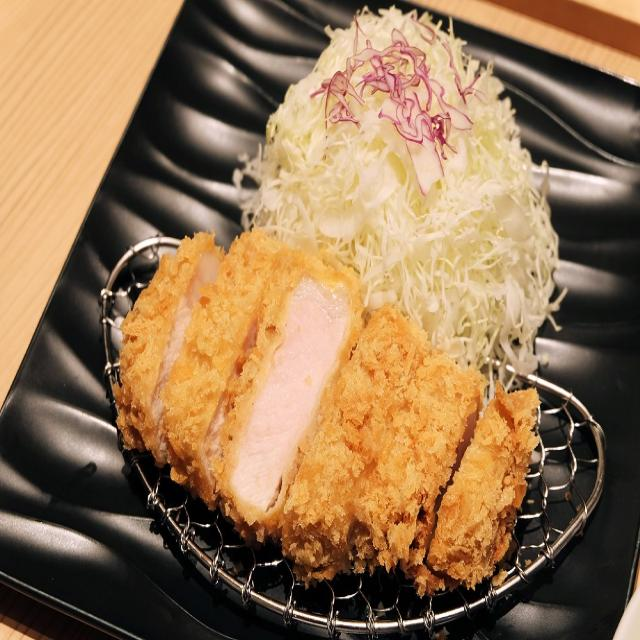meat: (116, 230, 540, 596)
vegetable: (242, 9, 560, 372)
